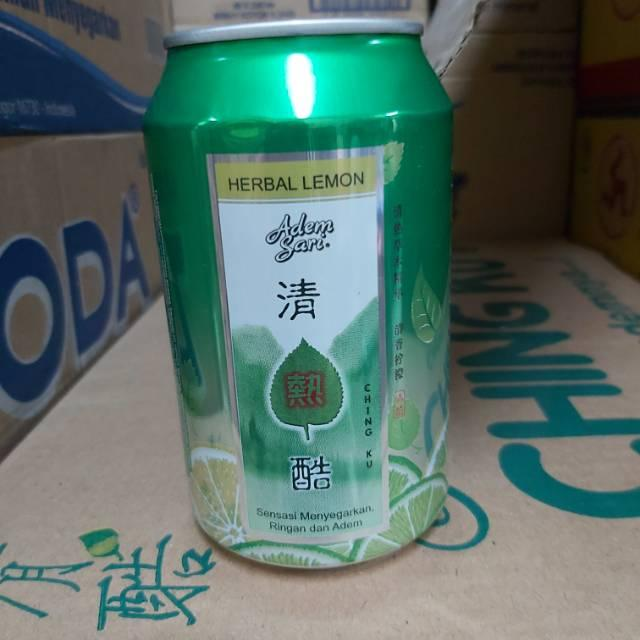ademsarikaleng: (141, 16, 455, 570)
